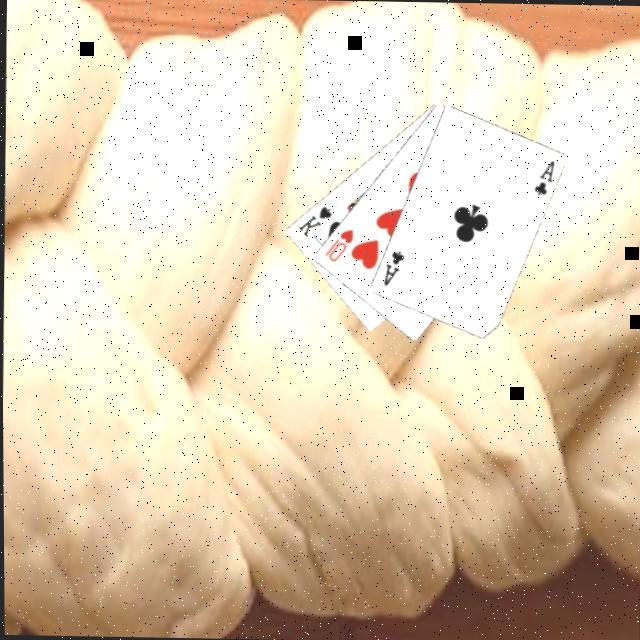10H: (321, 228, 356, 266)
AC: (379, 248, 407, 290), (530, 158, 558, 200)
KS: (294, 203, 335, 242)
